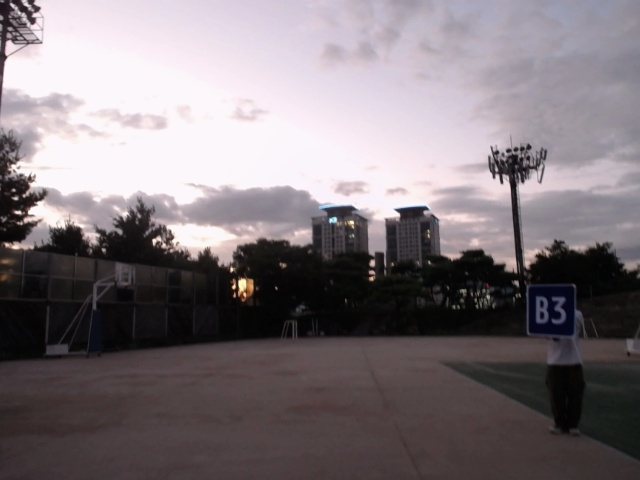delivery_b3: (526, 283, 575, 339)
